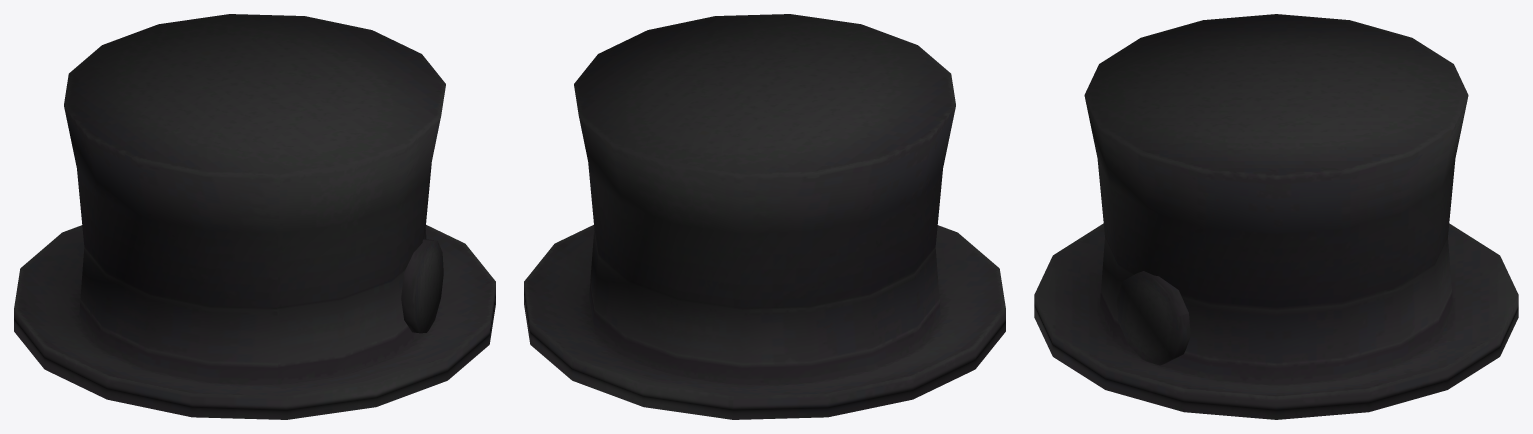
Rendered from M_MinihatA_3.glb.
3 views of the same model, side by side, from view 1: azimuth 30°, elevation 25°; view 2: azimuth 150°, elevation 25°; view 3: azimuth 270°, elevation 25° (orthographic).
Parts seen in each view (by area): view 1: SM_MinihatA; view 2: SM_MinihatA; view 3: SM_MinihatA.
Part boxes in pixels (x1,y1,x2,y2): SM_MinihatA: (14,14,495,419); SM_MinihatA: (524,14,1005,419); SM_MinihatA: (1034,14,1518,419).
Bounding box in the file's own units: 0.4534 × 0.2426 × 0.4534.
Materials: 1 (1 with a texture image).
